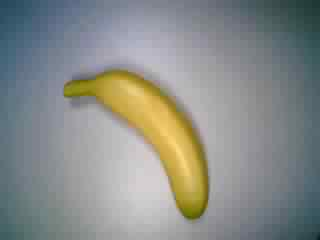banana: (59, 65, 218, 220)
